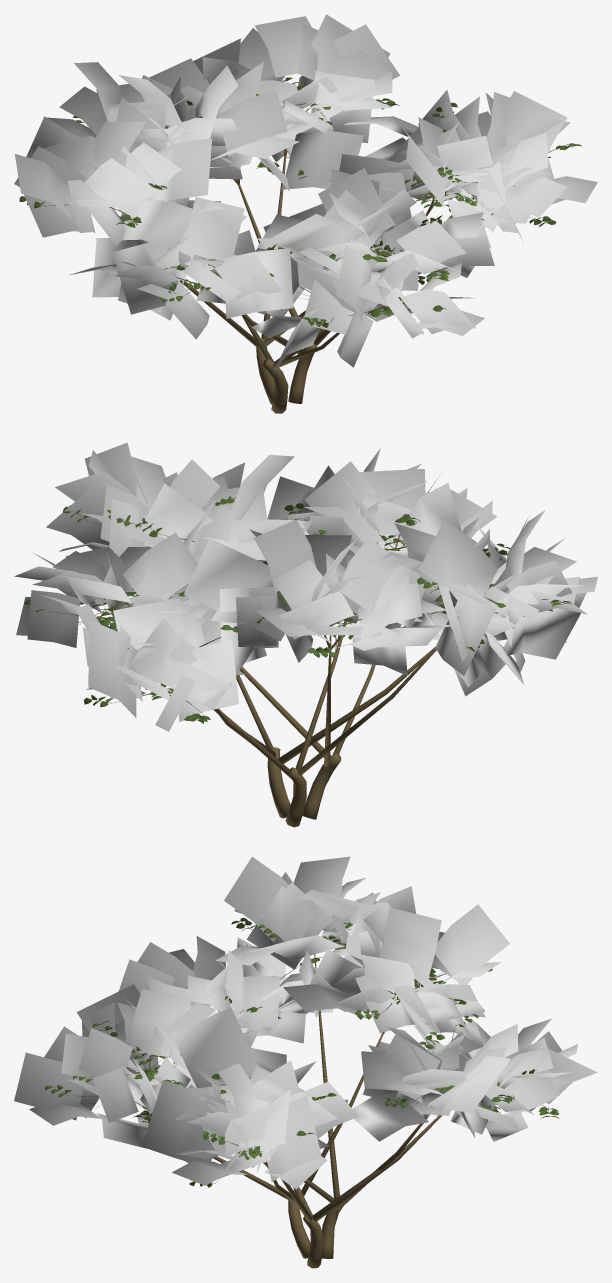
The model's file is V7_Lentisque_0_Niveau0.fbx.
3 renders of one model, top to bottom at view 1: azimuth 30°, elevation 25°; view 2: azimuth 150°, elevation 25°; view 3: azimuth 270°, elevation 25°, orthographic. The views are drawn at different scales.
Visible parts, largest first — view 1: V7_Lentisque_0; view 2: V7_Lentisque_0; view 3: V7_Lentisque_0.
Part boxes in pixels (x1,y1,x2,y2): V7_Lentisque_0: (14,14,597,413); V7_Lentisque_0: (14,442,597,827); V7_Lentisque_0: (14,856,597,1268).
Size of the model in its own units: 319 by 187 by 319.
